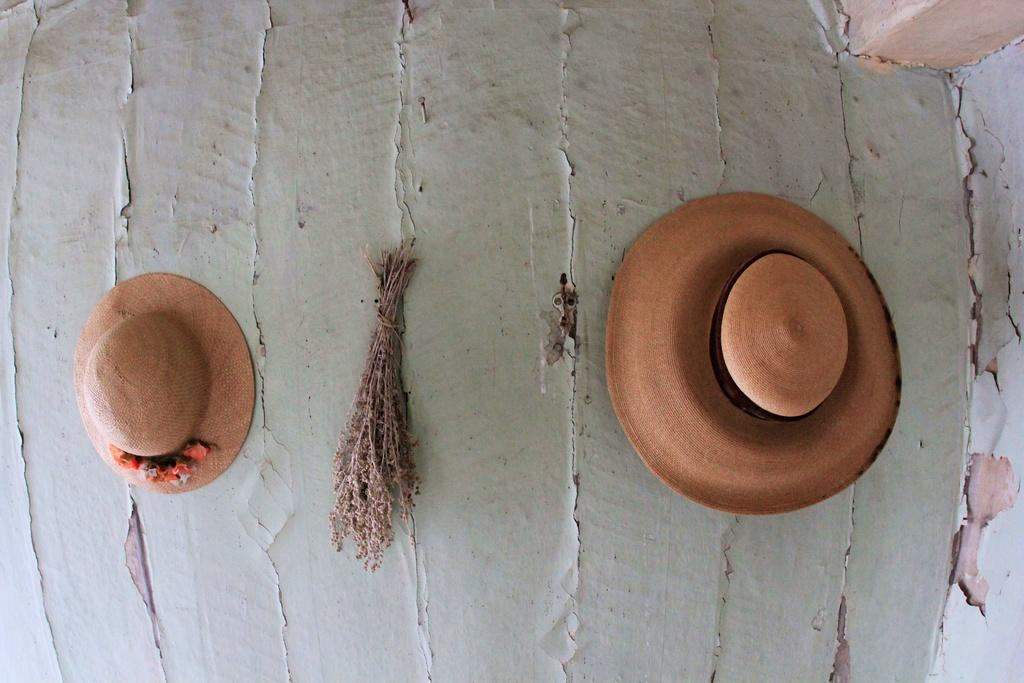Hat: (604, 188, 902, 518), (70, 268, 258, 494)
